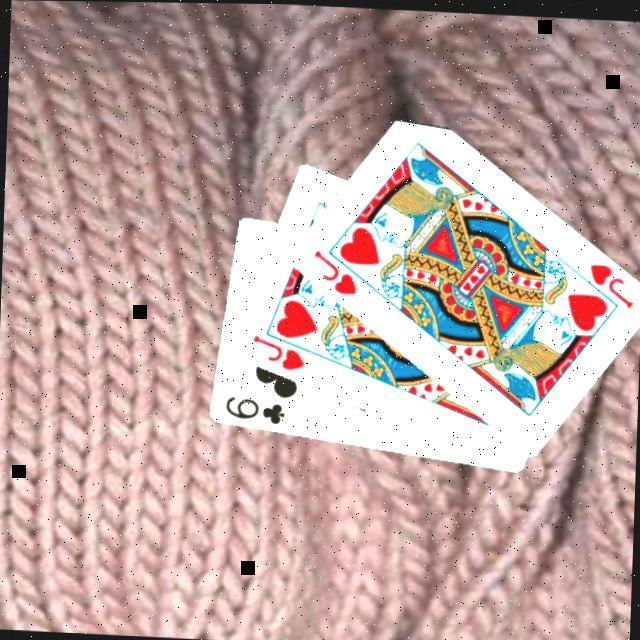6C: (220, 392, 286, 428)
JH: (306, 246, 359, 298), (583, 258, 636, 310), (248, 331, 306, 374)
